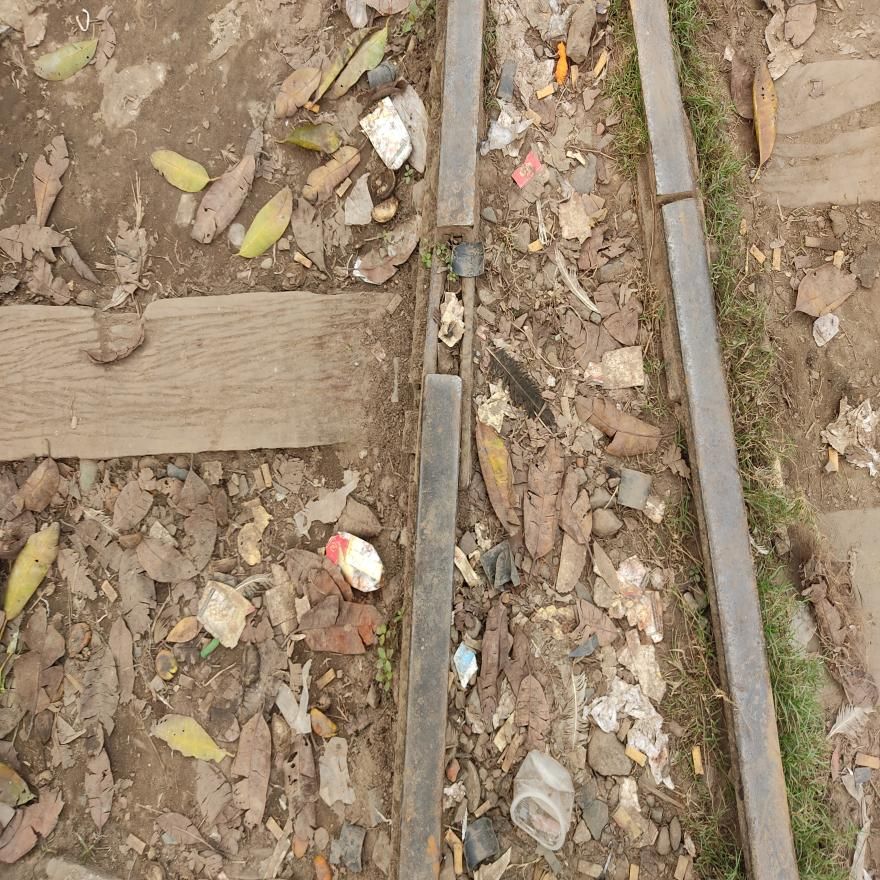railway-gap: (403, 190, 492, 433), (644, 154, 712, 243)
